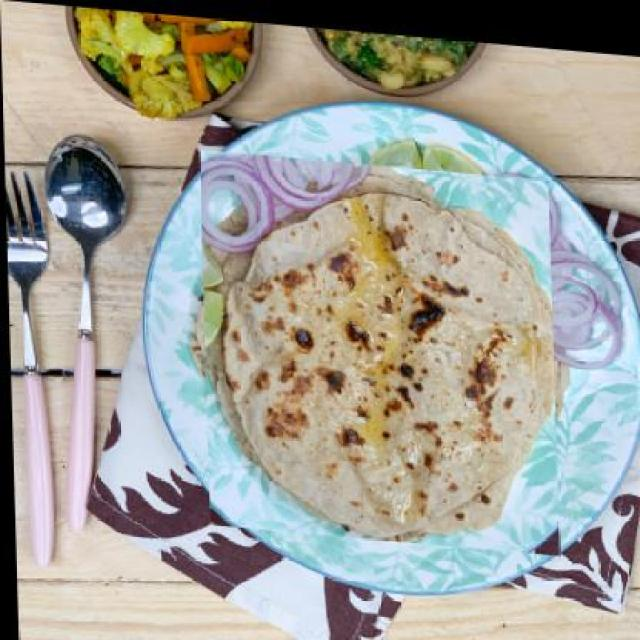chapati: (192, 150, 566, 542)
